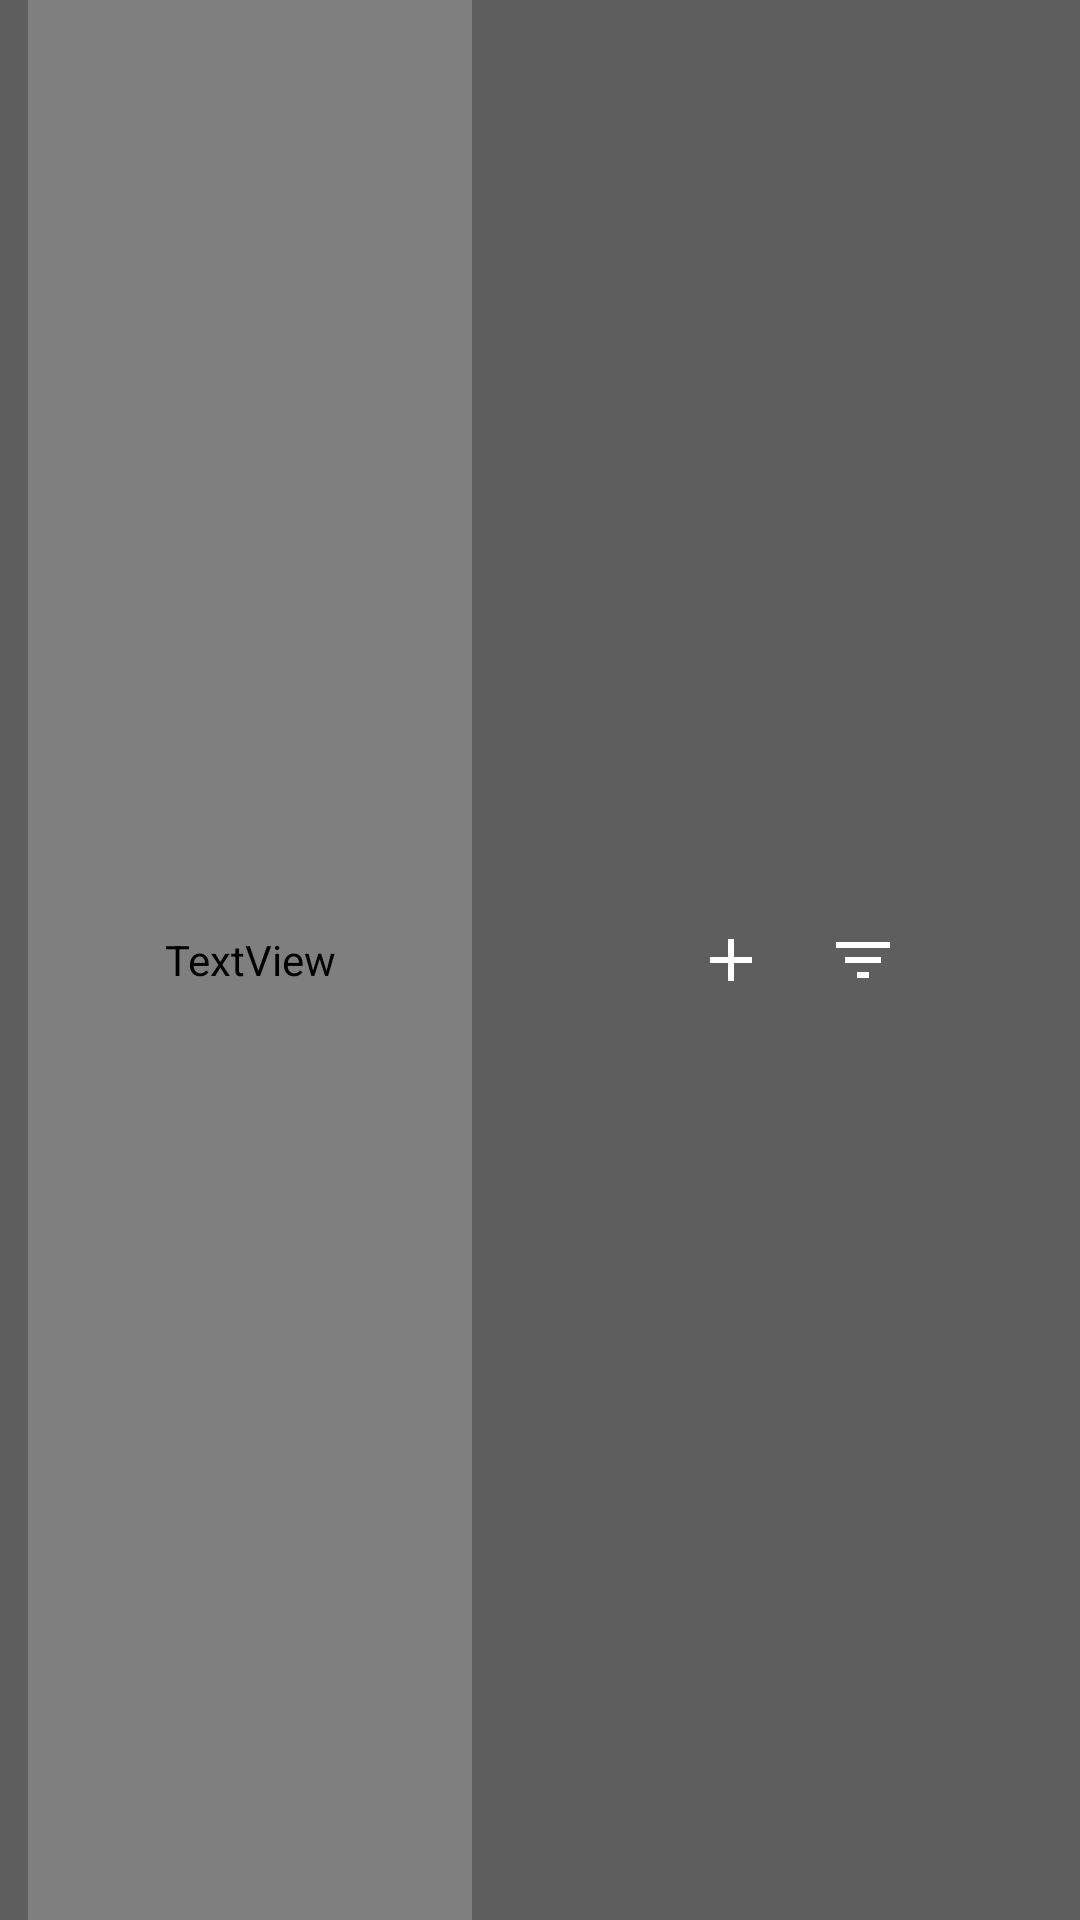

Icon click points for this 1080 x 1920 phone screenshot, format (x=x, y=y):
add: (x=731, y=960)
filter list: (x=863, y=960)
